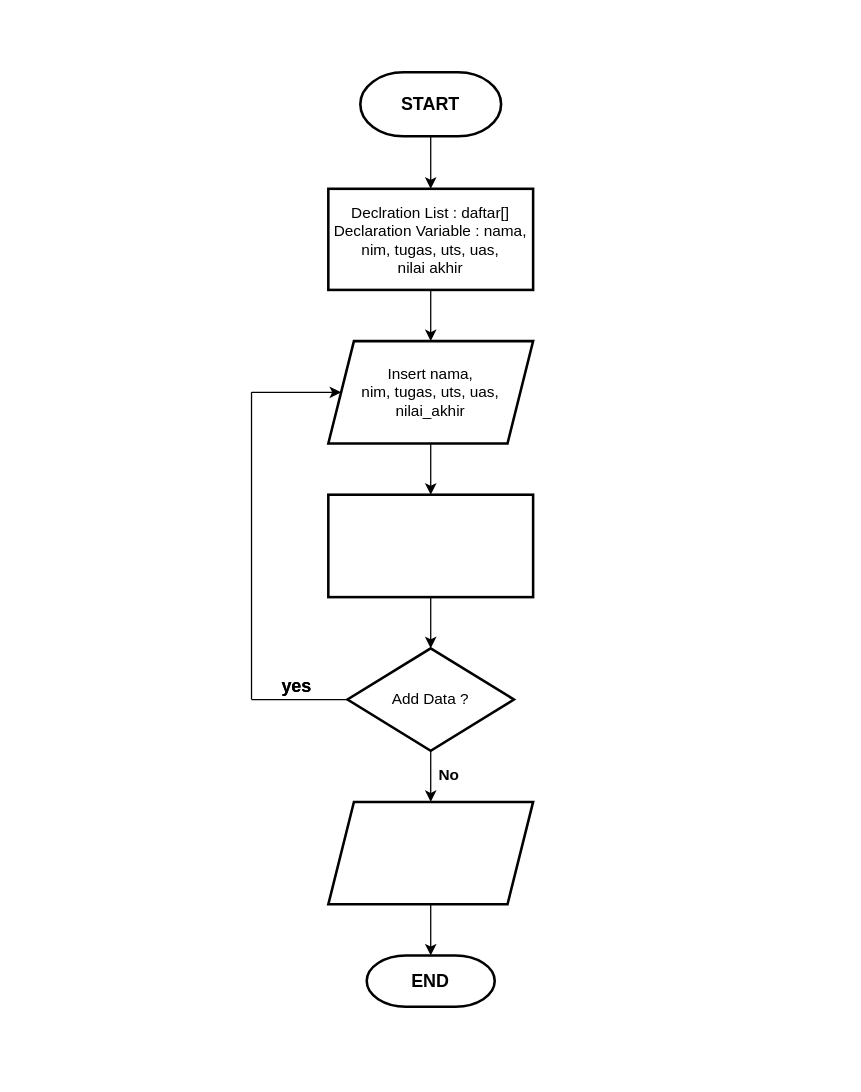
Image size: 861x1092. Some labels were removed from this diagram. Here are the shapes that lost their labels. From the top down, the centre of each, then its label:
At point (430, 545): "nilai_akhir = 0.3 * float(tugas) + 0.35 * float(uts) + 0.35 * float(uas)".
At point (430, 852): "Display the results of the input : Nama, NIM, Tugas, UTS, UAS, Nilai Akhir".
